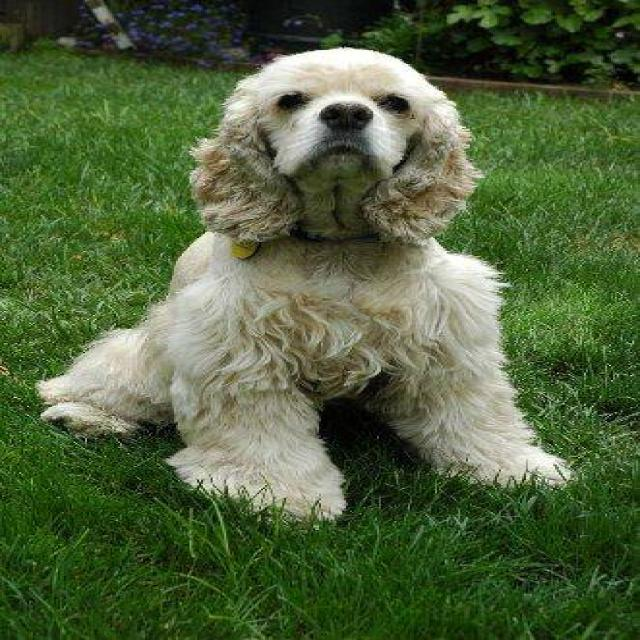dog: (33, 45, 578, 525)
